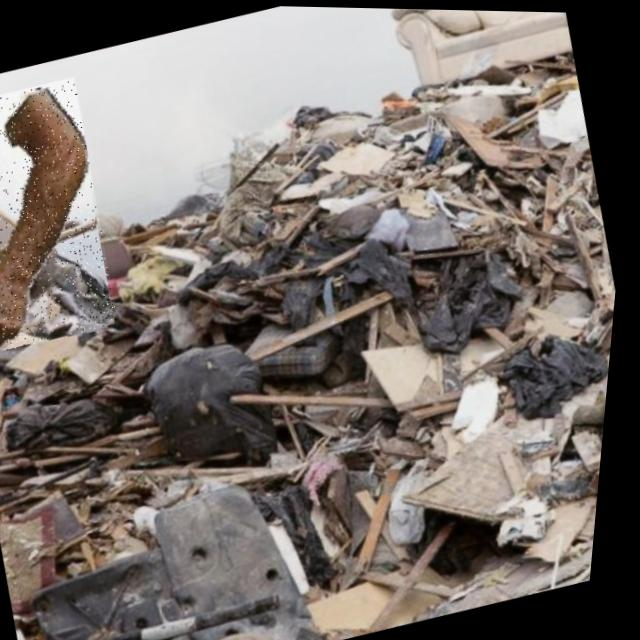Person in Rubble: (0, 74, 141, 362)
